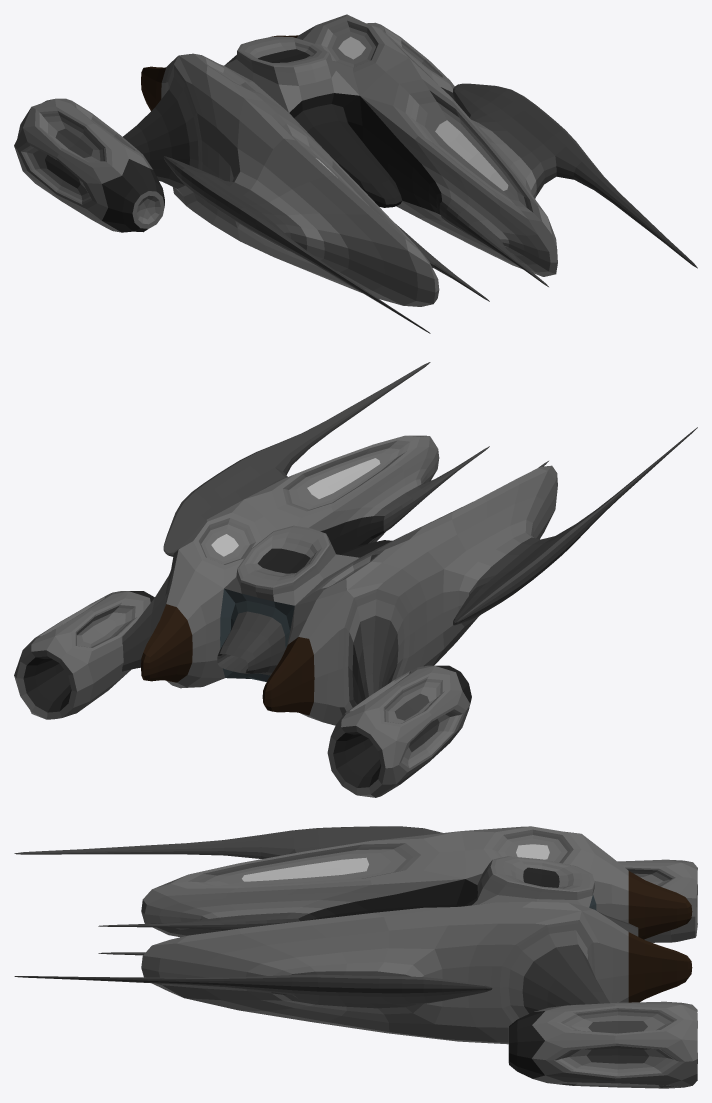
Rendered from shipL1.gltf.
The picture shows the model from 3 angles, top to bottom: view 1: azimuth 30°, elevation 25°; view 2: azimuth 150°, elevation 25°; view 3: azimuth 270°, elevation 25°; orthographic projection. The views are drawn at different scales.
Parts seen in each view (by area): view 1: Cube; view 2: Cube; view 3: Cube.
Part boxes in pixels (box(x1,y1,x2,y2)): Cube: box(14, 14, 697, 333); Cube: box(14, 362, 697, 797); Cube: box(14, 826, 697, 1088).
Size of the model in its own units: 0.3866 by 0.1555 by 0.6371.
2 materials, 2 textured.
